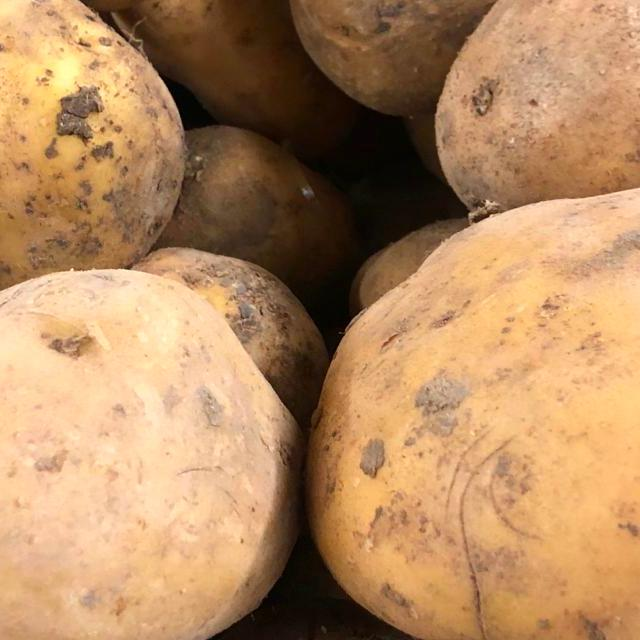potato: (290, 177, 640, 640), (0, 240, 302, 640), (0, 0, 205, 317), (427, 0, 640, 220)
